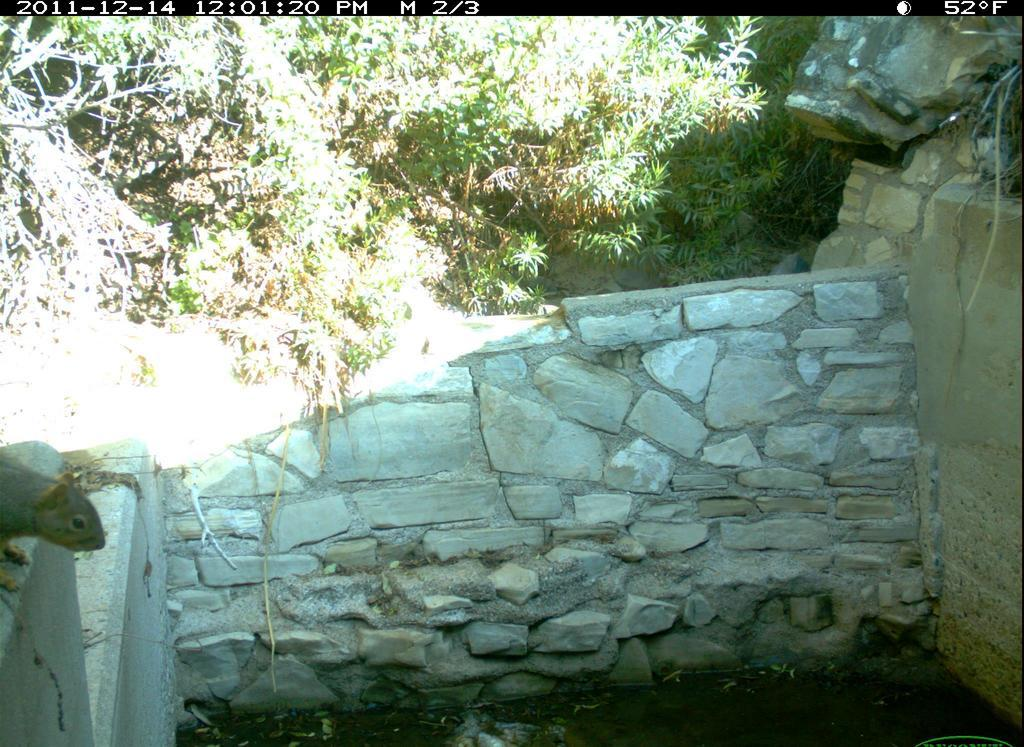squirrel: (4, 436, 114, 596)
